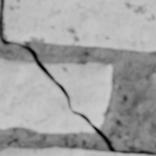brick: (4, 0, 155, 51), (125, 72, 155, 140), (0, 147, 151, 155)
broken_brick: (0, 59, 95, 133), (44, 63, 112, 127)
crack: (0, 0, 155, 155)
